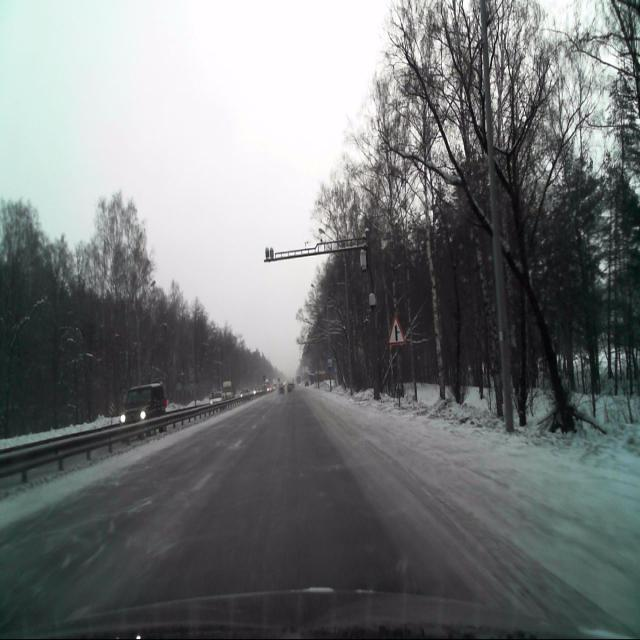road sign: (388, 314, 406, 346)
